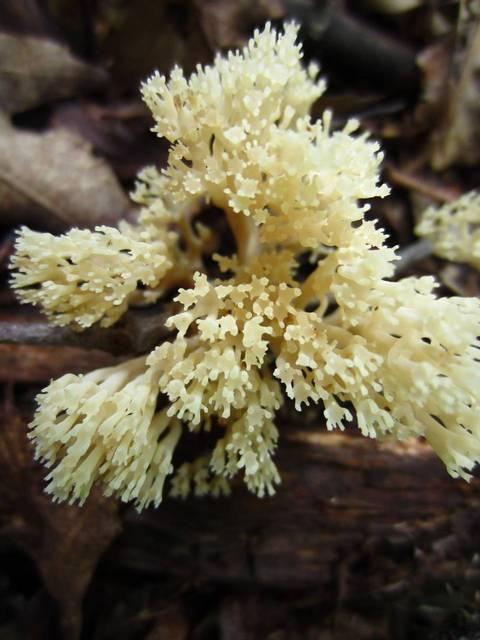edible_mushroom: (9, 17, 478, 513)
